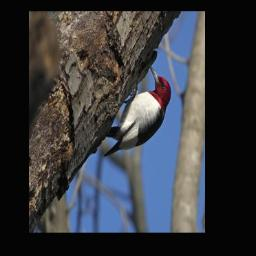Woodpecker: (99, 61, 175, 157)
